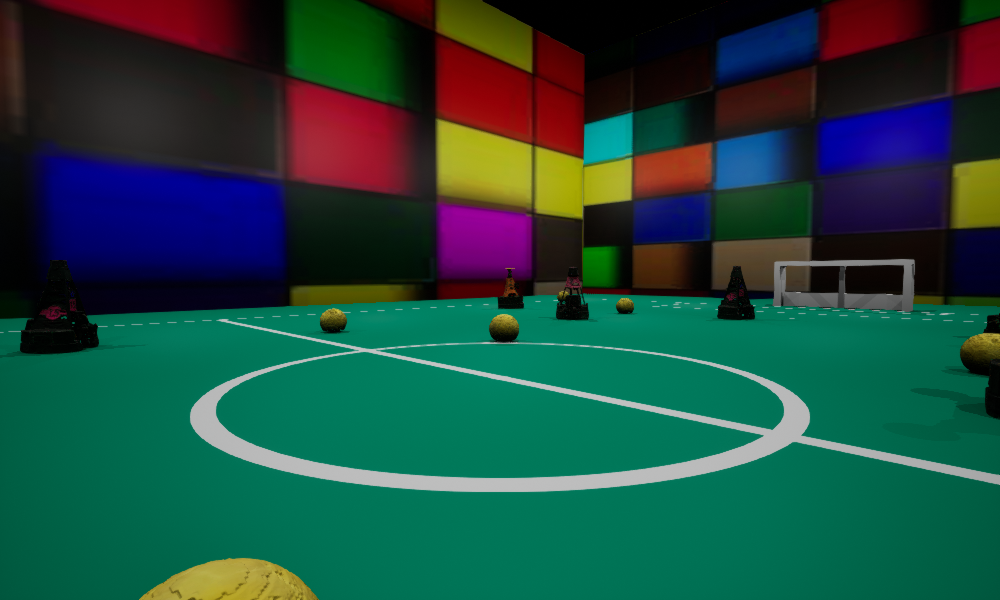b: (139, 558, 318, 599), (960, 333, 999, 374), (489, 314, 518, 341), (320, 308, 346, 330), (616, 298, 633, 313), (557, 291, 568, 301)
o: (498, 268, 523, 308), (985, 359, 999, 418), (983, 313, 999, 333)
p1: (20, 260, 98, 353), (717, 266, 754, 319)
p2: (556, 267, 588, 319)
